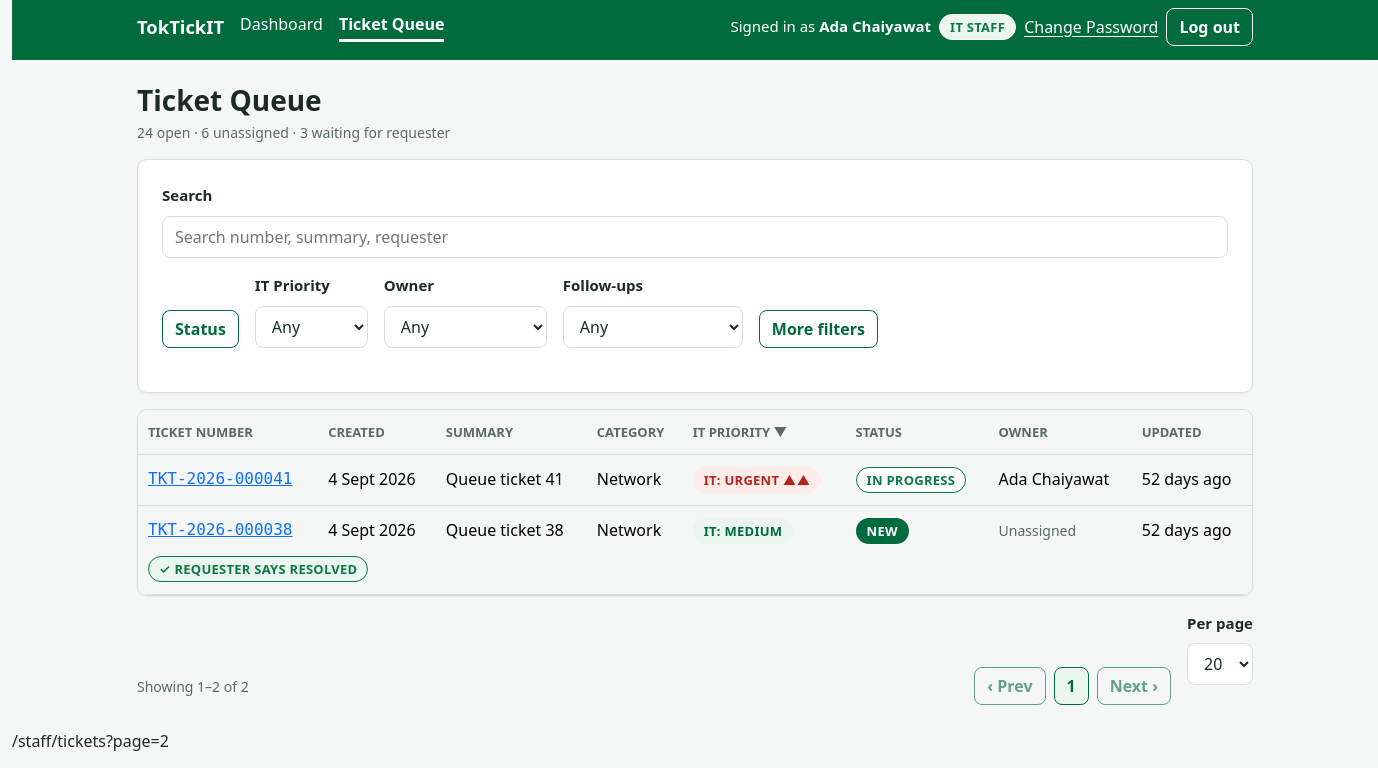
Test case: UI-20 changing the query returns to page 1 (BR-62, ui-spec §7.4) › applies the Open work preset as a repeated status filter, also on page 1
The width and height of the screenshot is (1378, 768).
Expected: the table is shown, [138,410,1252,595]
Click the heading "Status".
click(200, 329)  # box [162,310,239,348]
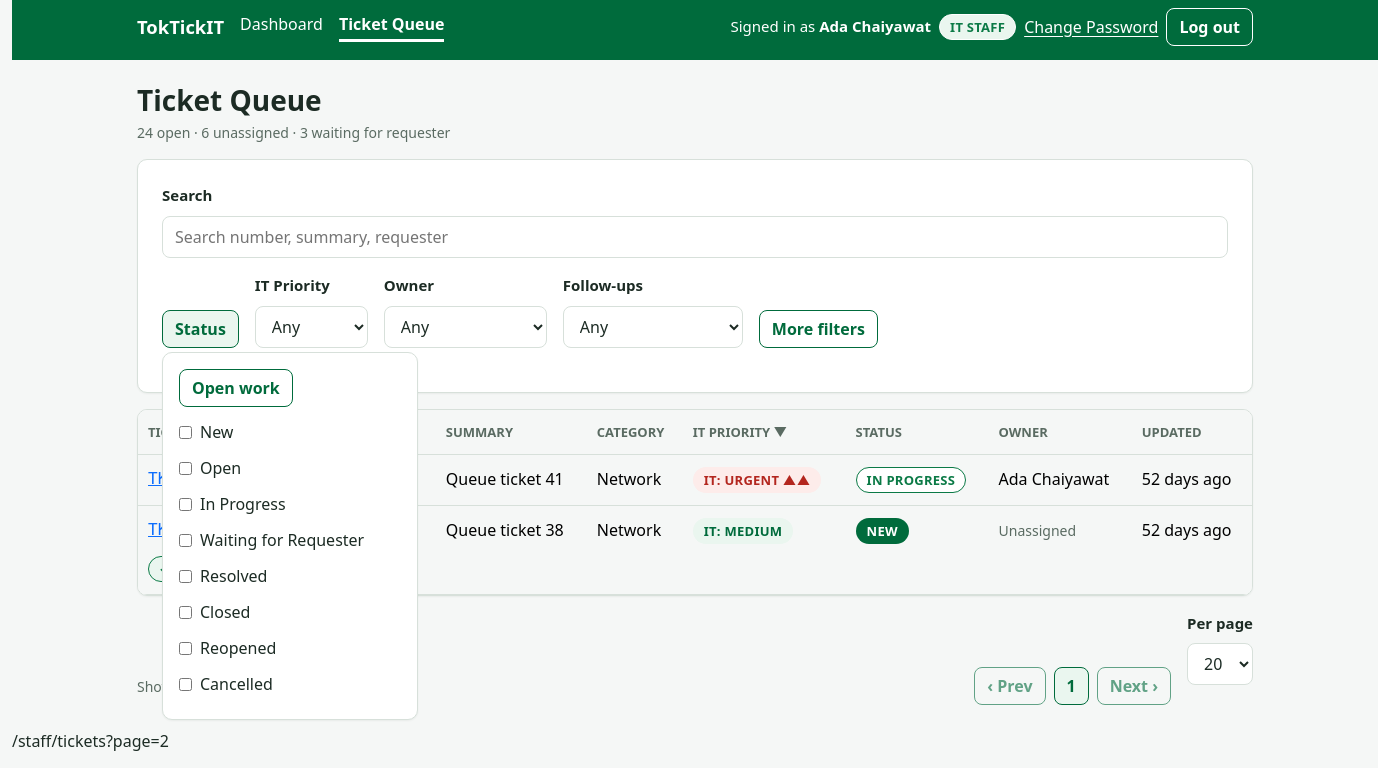
Click the button "Open work".
click(236, 388)  # box [179,369,293,407]
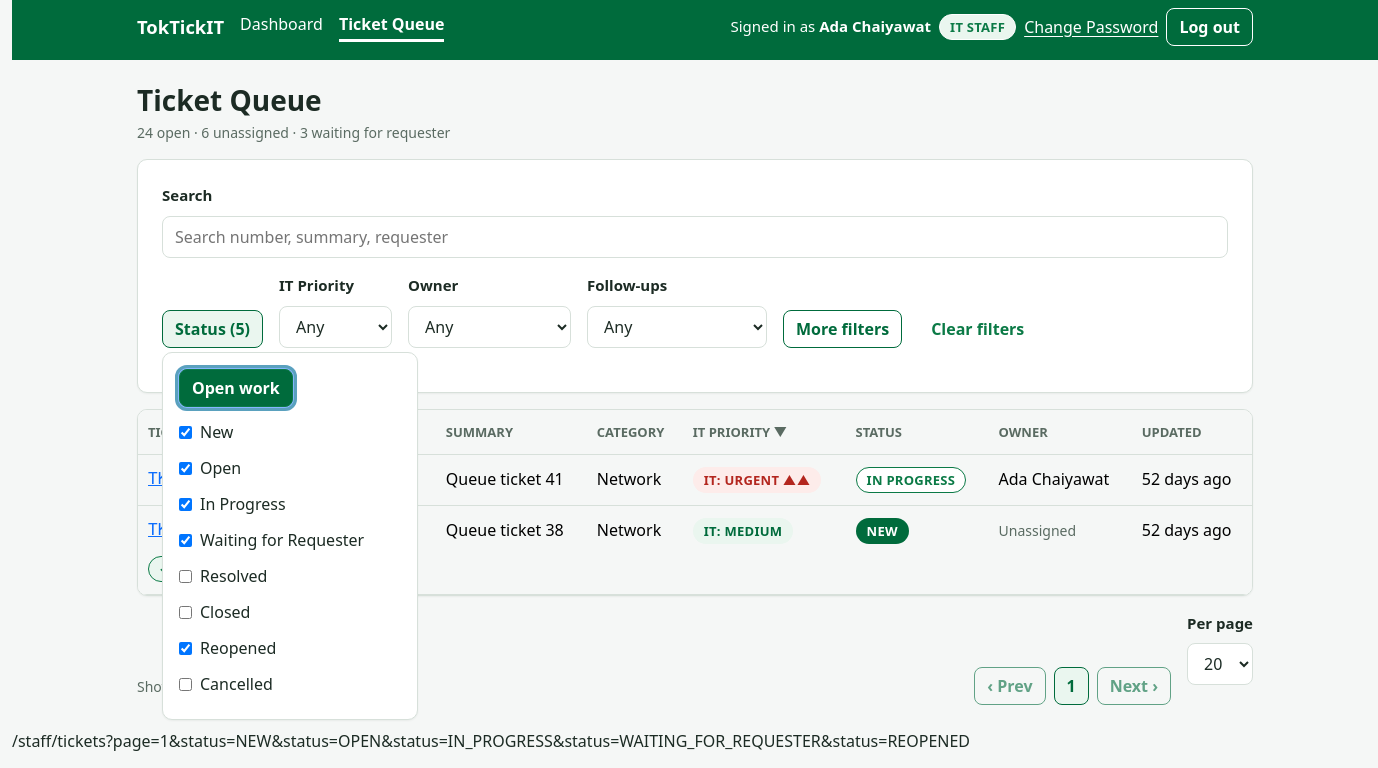
Expected: the checkbox labelled "Closed" is not checked, [179,606,192,619]
Expected: the checkbox labelled "Reopened" is checked, [179,642,192,655]
